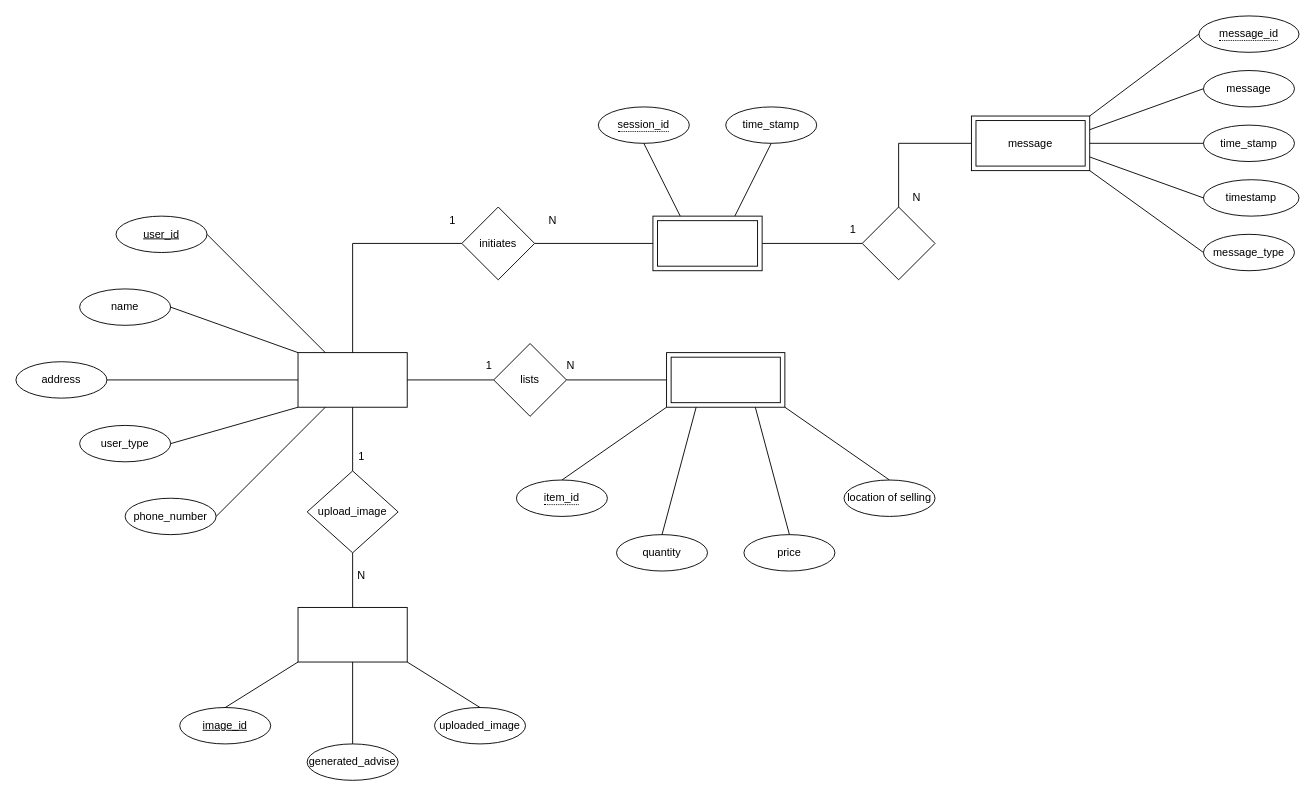
Some shapes in this 1315 by 796 pixel diagram are drawn without their labels. The shapes that lost their labels are listed below. From the top down, each one's centre as x and y in pixels, then its label:
At (x=707, y=243): "chat_session".
At (x=898, y=243): "contains".
At (x=352, y=379): "user".
At (x=725, y=379): "item".
At (x=352, y=634): "images".
